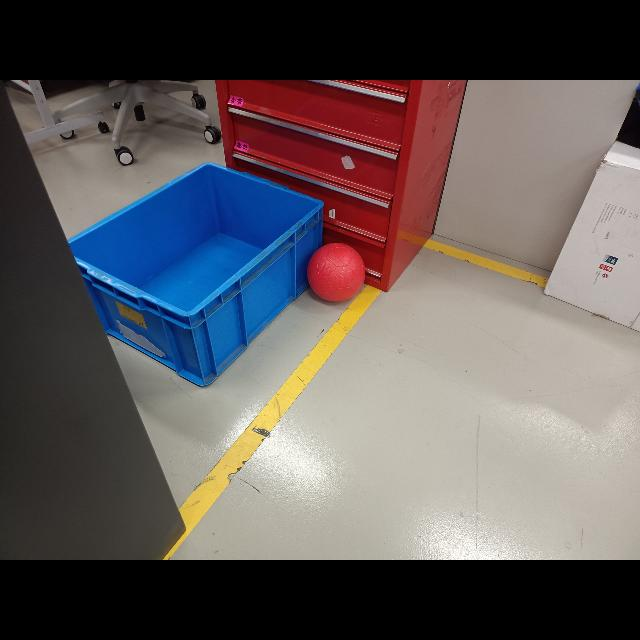R: (308, 242, 366, 302)
